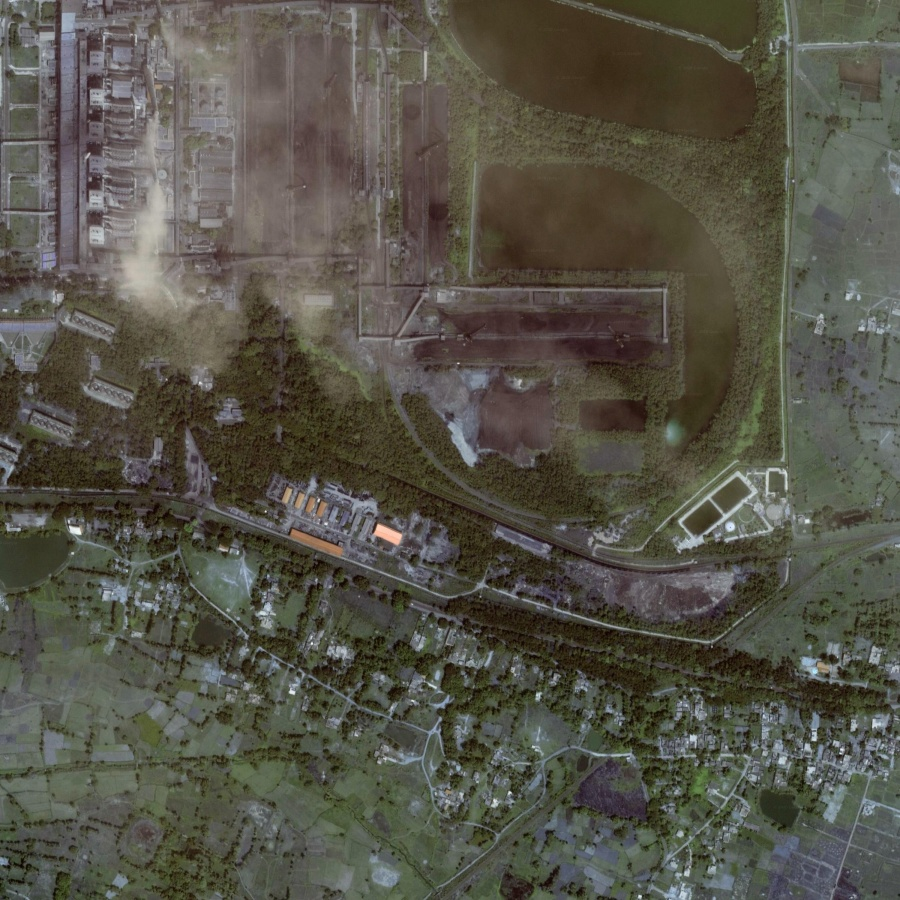PowerPlant: (130, 3, 460, 324), (394, 286, 678, 472)
